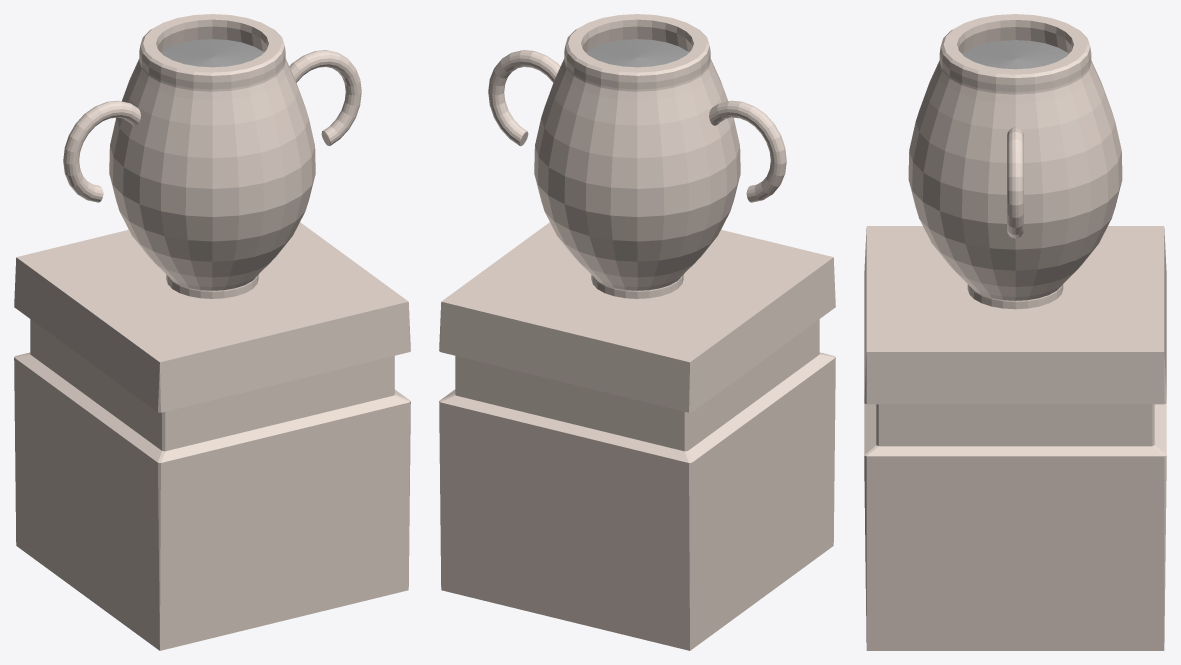
The model's file is Isl_6_Vase_1.fbx.
3 views of the same model, side by side, from view 1: azimuth 30°, elevation 25°; view 2: azimuth 150°, elevation 25°; view 3: azimuth 270°, elevation 25° (orthographic). The views are drawn at different scales.
Visible parts, largest first — view 1: Isl_6_Vase_1; view 2: Isl_6_Vase_1; view 3: Isl_6_Vase_1.
Boxes of the visible parts, left/top/right/bottom form: Isl_6_Vase_1: left=14, top=14, right=410, bottom=650; Isl_6_Vase_1: left=439, top=14, right=835, bottom=650; Isl_6_Vase_1: left=864, top=14, right=1166, bottom=650.
Size of the model in its own units: 145 by 124 by 246.
1 material, 1 textured.
